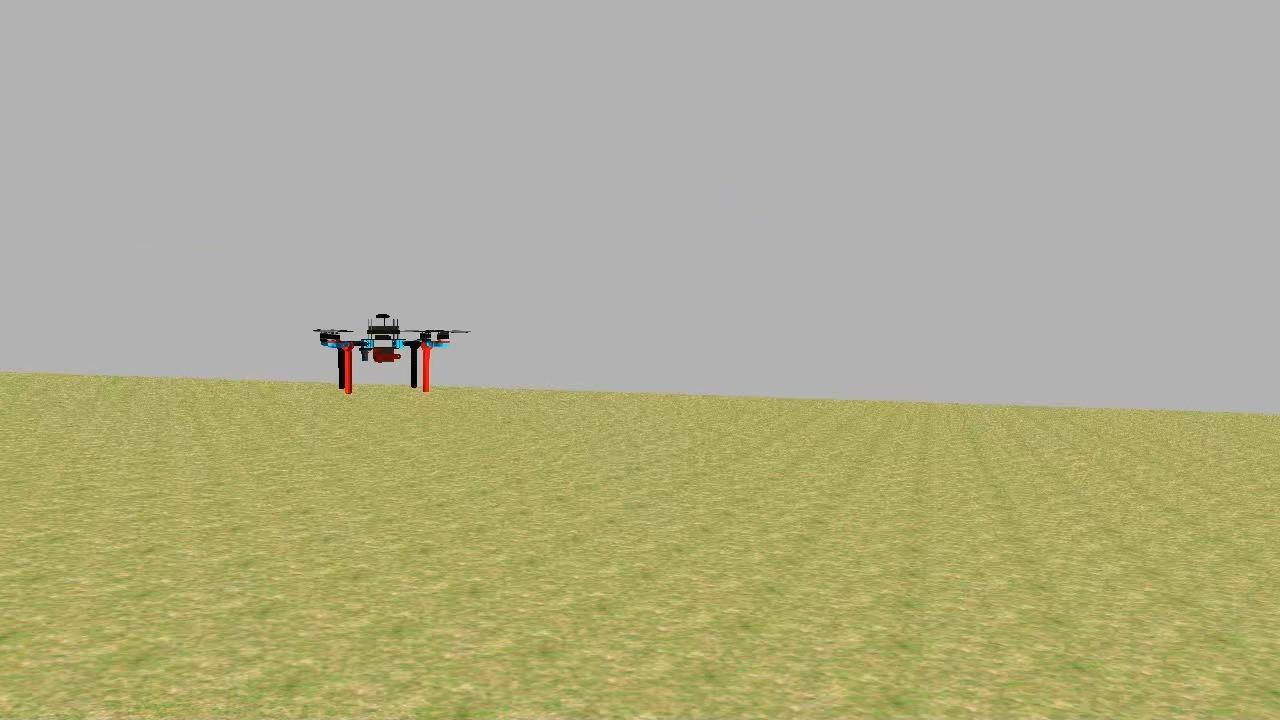UAV: (311, 308, 456, 403)
